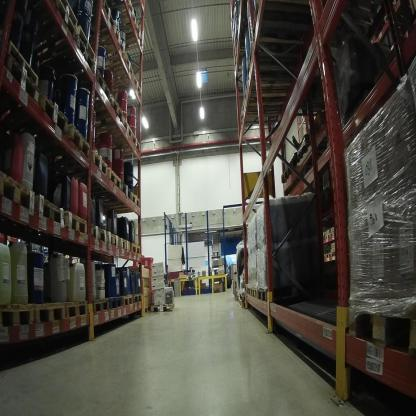pallets: (0, 186, 146, 257), (0, 292, 146, 332), (0, 56, 71, 136), (63, 157, 148, 205), (51, 2, 98, 71), (112, 102, 145, 154), (62, 124, 94, 164), (94, 70, 119, 108)
